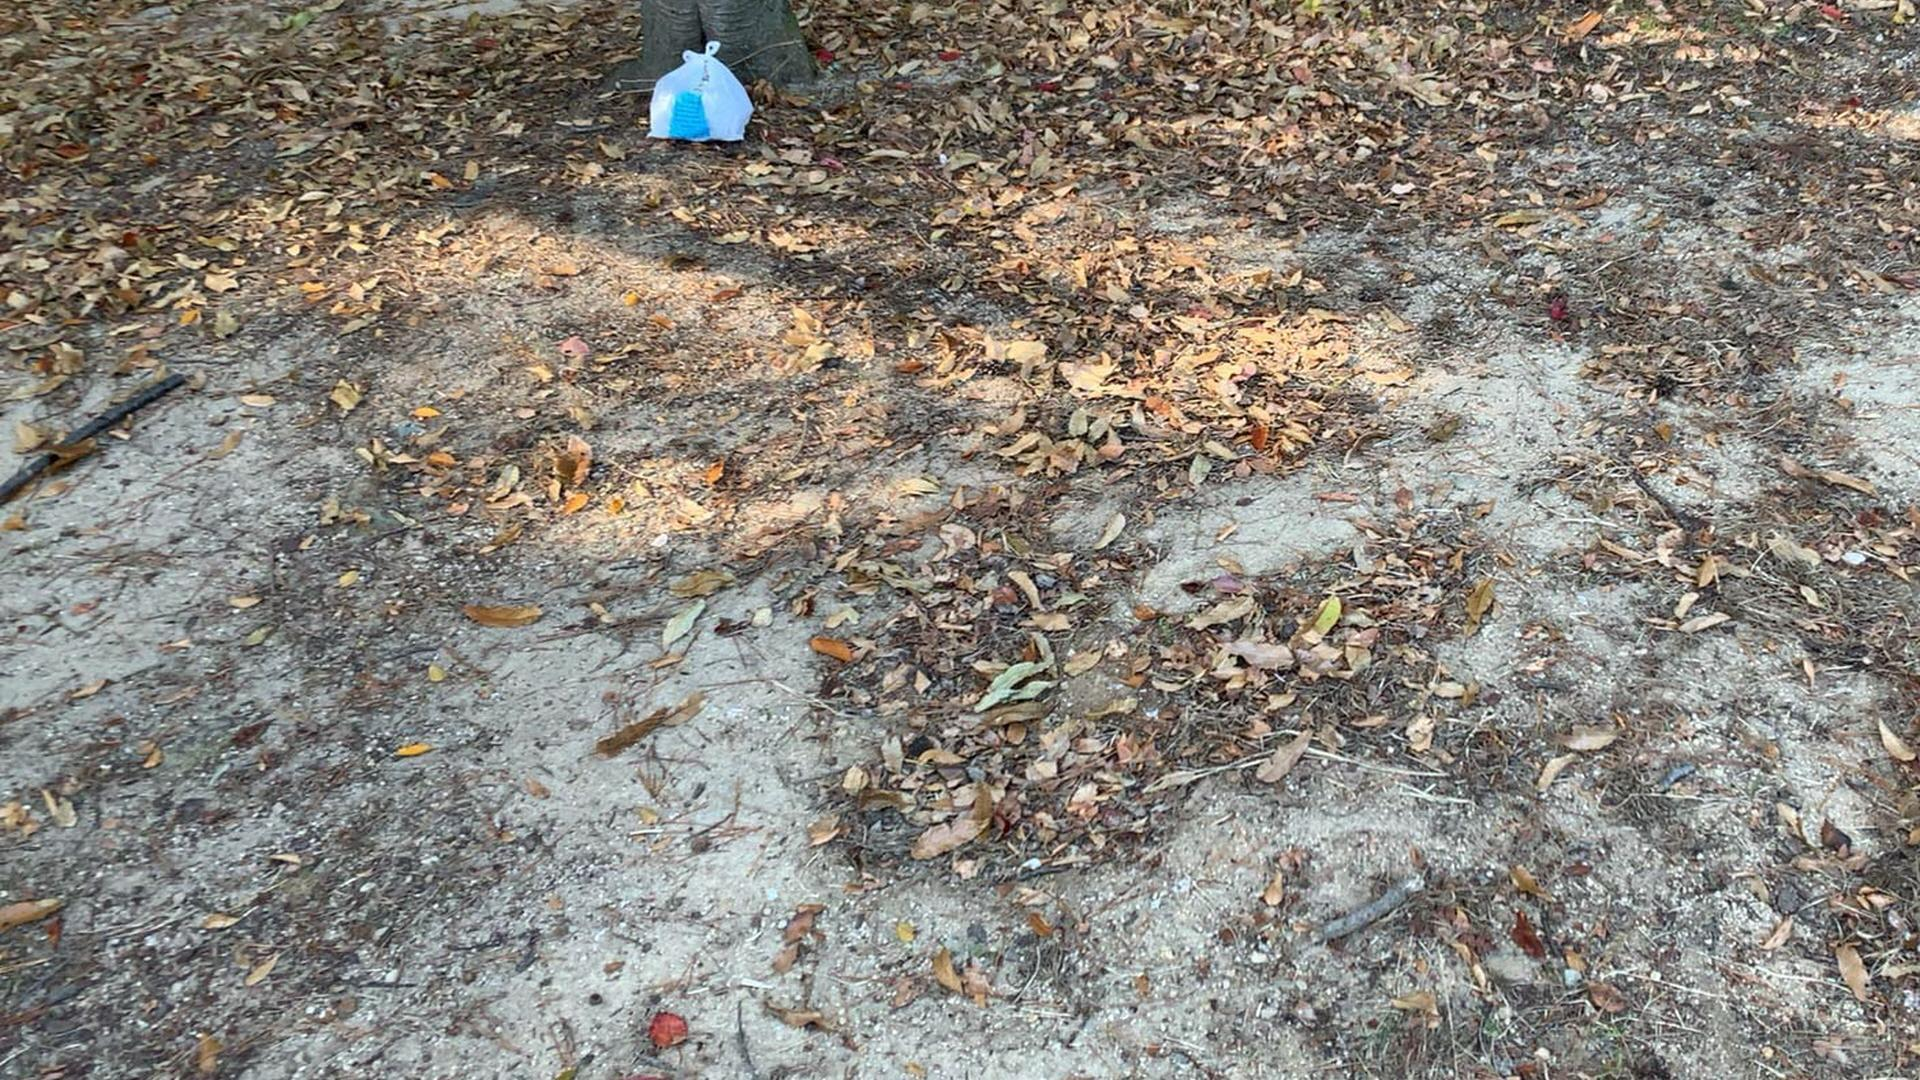white_bag: (642, 38, 765, 150)
